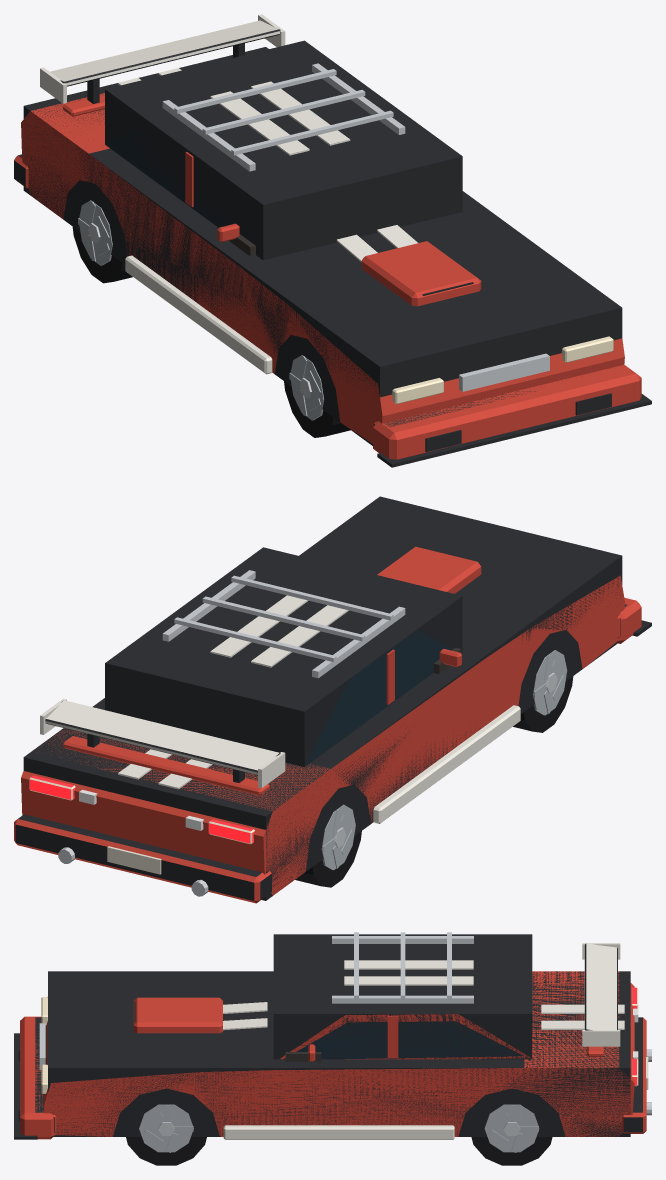
Rendered from VEH_Muscle.fbx.
The picture shows the model from 3 angles, top to bottom: view 1: azimuth 30°, elevation 25°; view 2: azimuth 150°, elevation 25°; view 3: azimuth 270°, elevation 25°; orthographic projection. The views are drawn at different scales.
Visible parts, largest first — view 1: VEH_Muscle__COL_Body, VEH_Muscle__COL_Cabin, VEH_Muscle, VEH_Muscle__BODY, VEH_Muscle__WHEEL_FR, VEH_Muscle__WHEEL_RR, VEH_Muscle__LIGHTS; view 2: VEH_Muscle__BODY, VEH_Muscle__COL_Body, VEH_Muscle__COL_Cabin, VEH_Muscle, VEH_Muscle__WHEEL_RR, VEH_Muscle__WHEEL_FR, VEH_Muscle__LIGHTS; view 3: VEH_Muscle__COL_Body, VEH_Muscle__BODY, VEH_Muscle__COL_Cabin, VEH_Muscle, VEH_Muscle__WHEEL_FL, VEH_Muscle__WHEEL_RL, VEH_Muscle__LIGHTS.
Part boxes in pixels (x1,y1,x2,y2): VEH_Muscle__COL_Body: (23,47,622,445); VEH_Muscle__COL_Cabin: (105,40,462,260); VEH_Muscle: (40,14,651,467); VEH_Muscle__BODY: (14,93,624,443); VEH_Muscle__WHEEL_FR: (284,355,350,437); VEH_Muscle__WHEEL_RR: (72,200,132,283); VEH_Muscle__LIGHTS: (392,336,613,404); VEH_Muscle__BODY: (14,575,627,903); VEH_Muscle__COL_Body: (23,496,622,900); VEH_Muscle__COL_Cabin: (105,547,462,766); VEH_Muscle: (40,546,651,896); VEH_Muscle__WHEEL_RR: (295,804,361,887); VEH_Muscle__WHEEL_FR: (513,650,573,732); VEH_Muscle__LIGHTS: (29,775,254,844); VEH_Muscle__COL_Body: (48,971,630,1136); VEH_Muscle__BODY: (35,971,648,1136); VEH_Muscle__COL_Cabin: (273,934,532,1059); VEH_Muscle: (14,932,651,1139); VEH_Muscle__WHEEL_FL: (126,1104,206,1165); VEH_Muscle__WHEEL_RL: (471,1104,552,1165); VEH_Muscle__LIGHTS: (41,987,638,1093).
Bounding box in the file's own units: 2.06 × 1.43 × 5.36.
